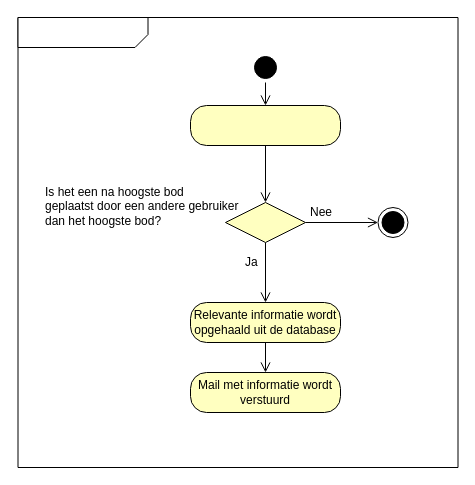
This 475x485 diagram has some shape labels left out. Here are the shapes that lost their labels. From the top down, the box of each, then its label:
(17, 16, 148, 48): Activity Diagram
(190, 104, 340, 146): Een gebruiker heeft een bod geplaatst
